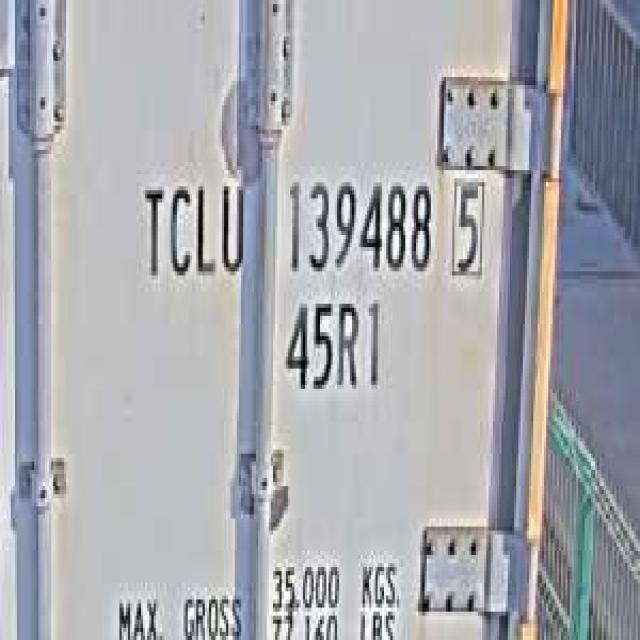dv: (444, 170, 488, 284)
owner: (134, 162, 250, 292)
serial: (282, 162, 435, 280)
size: (277, 288, 388, 405)
